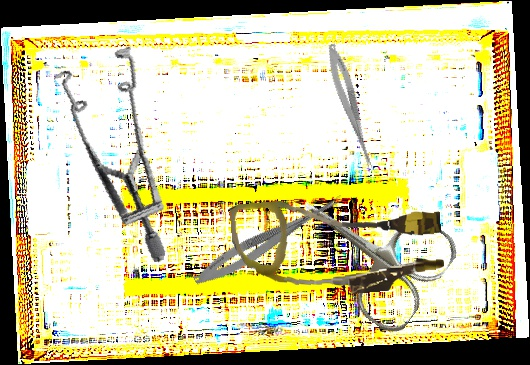Cannula: (229, 187, 446, 304)
Iris Scissors: (273, 156, 464, 340)
Micro Scissor: (189, 185, 348, 293), (321, 41, 383, 175)
Speculum: (17, 30, 212, 264)
